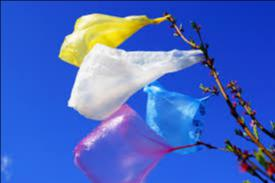Plastic: (63, 45, 212, 123), (71, 103, 203, 182), (63, 8, 172, 71), (142, 79, 216, 159)
